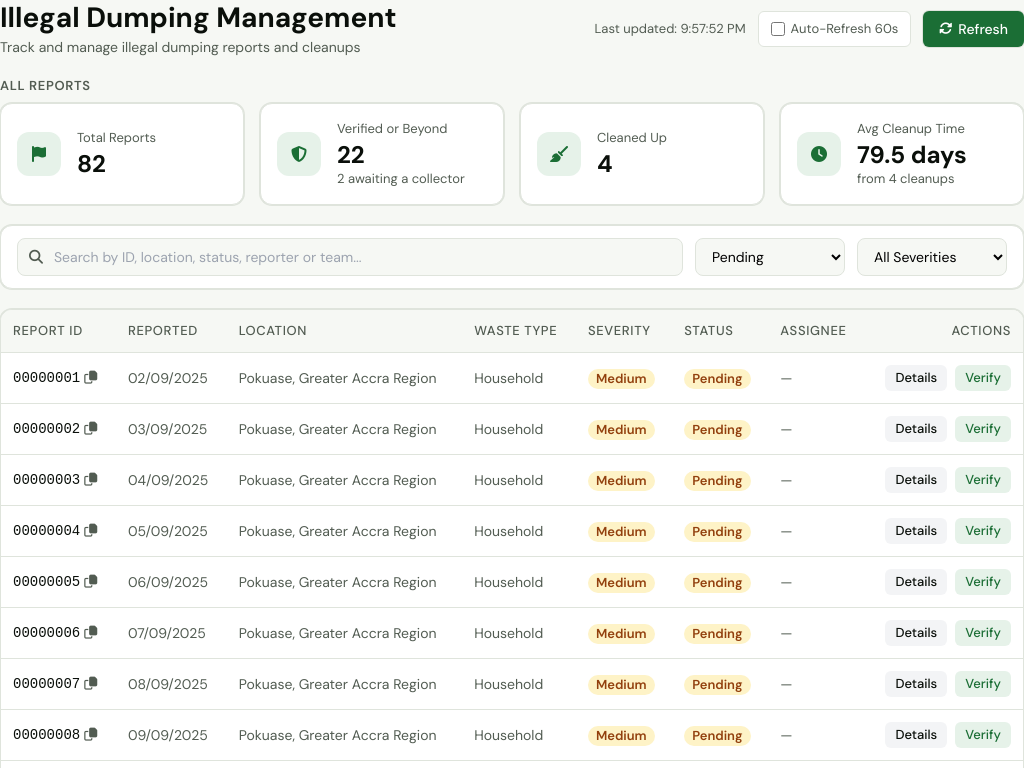
Scenario: Reports page › opens a pending report with a valid date, reporter, Verify and no Mark Cleaned
Expected: the text with test id "kpi-total-reports" does not show "—", [77,148,106,179]
Expected: the dropdown named "Status" shows "Pending", [695,238,845,276]
Click the button "Details" in the row of "00000001" at point(916, 378), box [885,365,947,391]
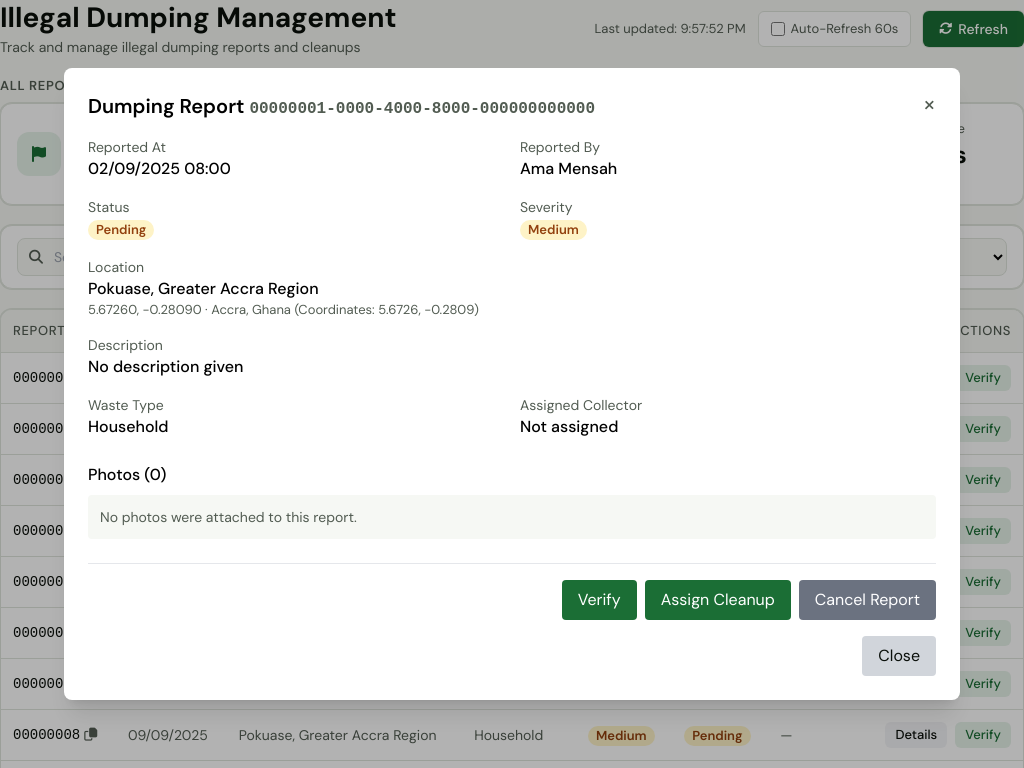
Expected: the text "02/09/2025 08:00" is shown, [88,158,231,179]
Expected: the text "Ama Mensah" is shown, [520,158,617,179]
Expected: the button "Verify" is shown, [562,580,637,620]
Press Escape
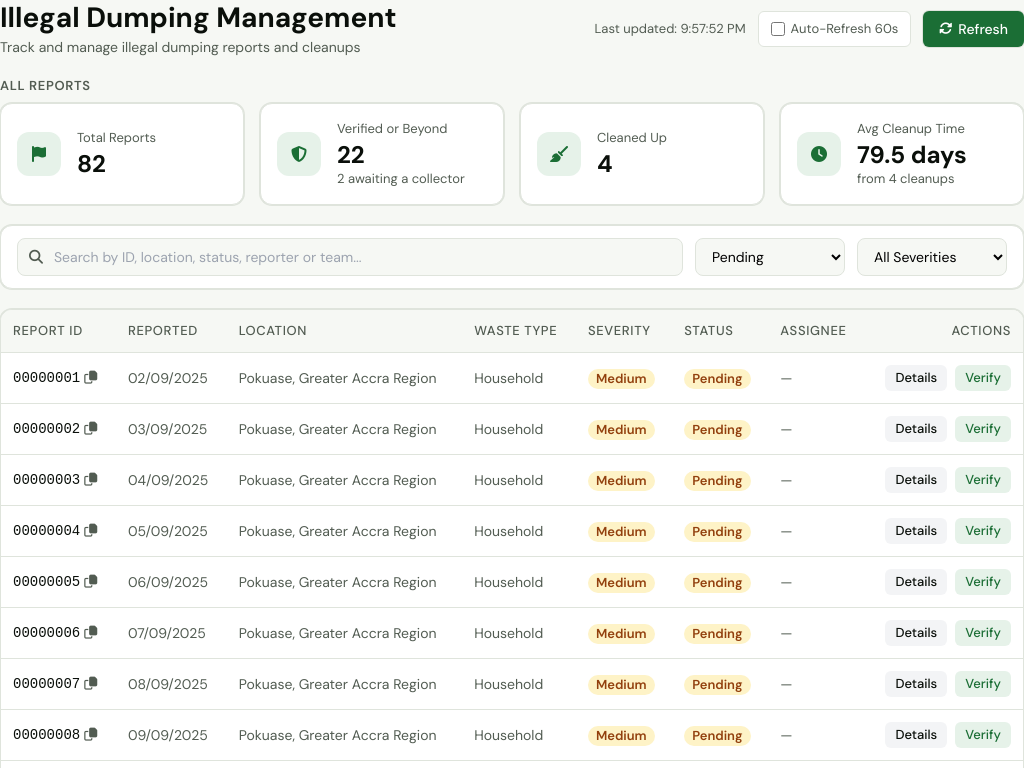
Expected: the dialog is gone
